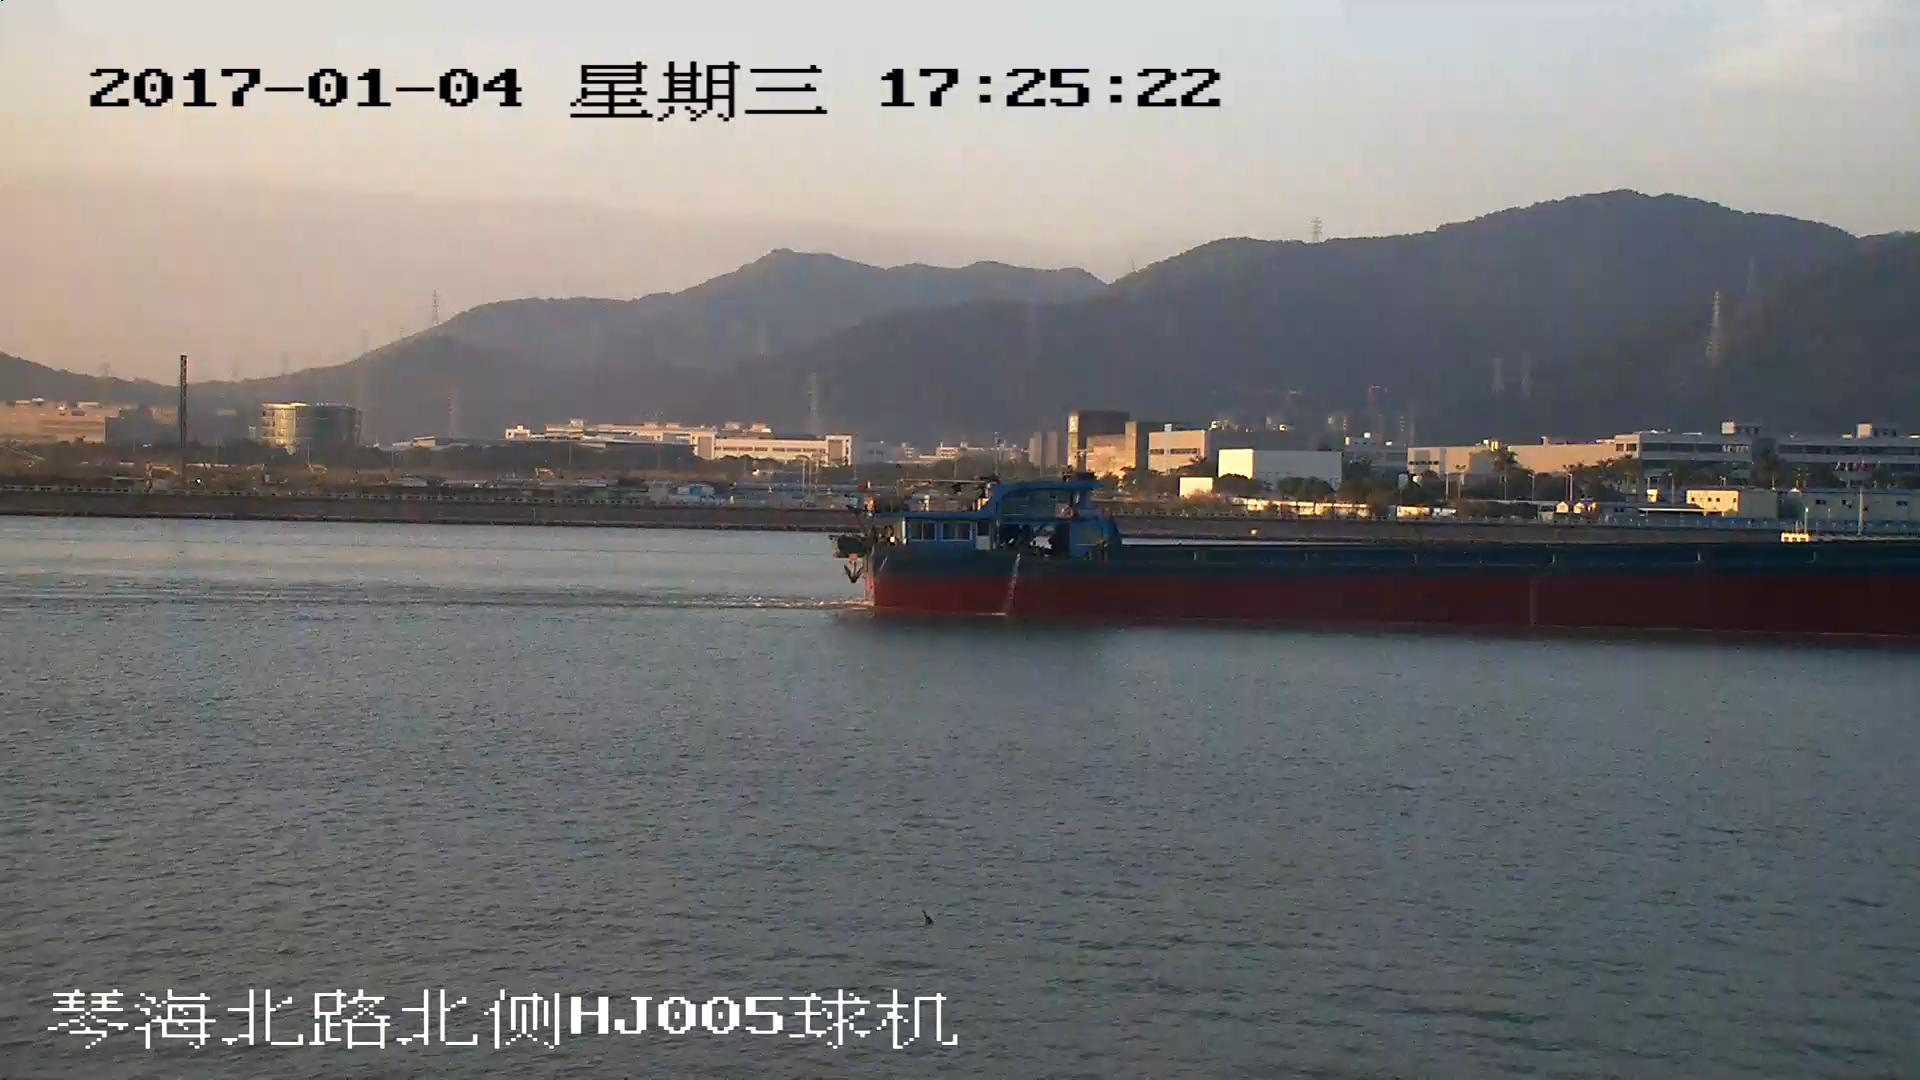Ship: (843, 475, 1920, 641)
